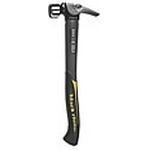hammer: (46, 0, 100, 146)
